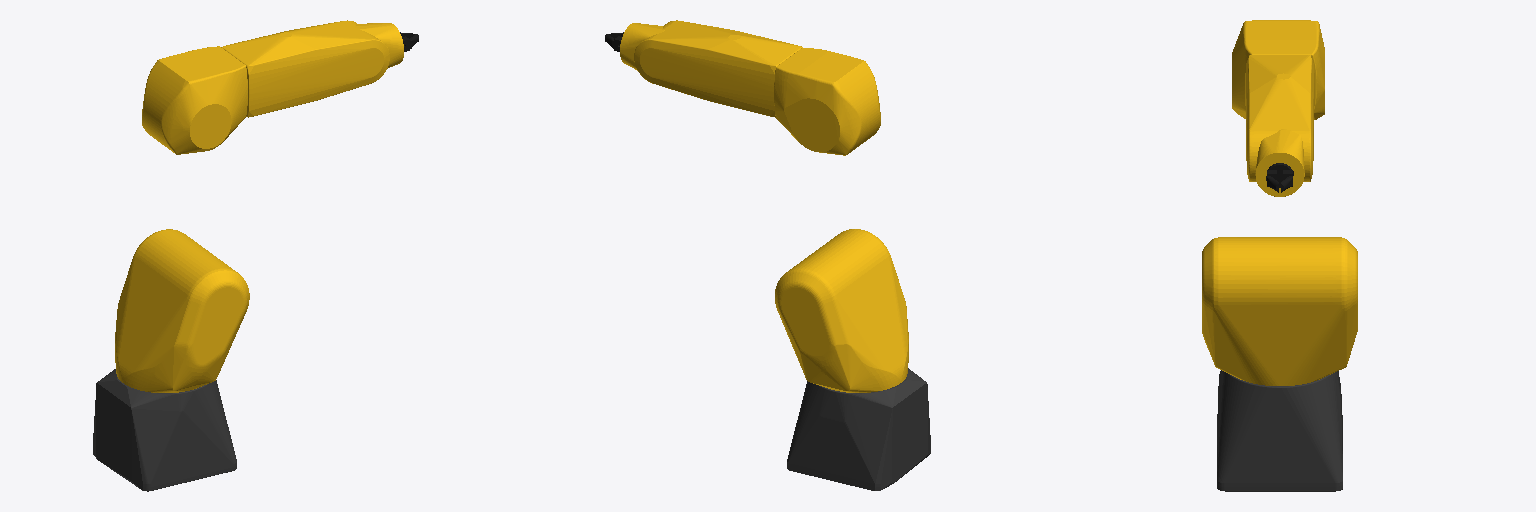
The robot description file, URDF, robot "fanuc_lrmate200id":
<?xml version="1.0" ?>
<!-- =================================================================================== -->
<!-- |    This document was autogenerated by xacro from fanuc_only.xacro               | -->
<!-- |    EDITING THIS FILE BY HAND IS NOT RECOMMENDED                                 | -->
<!-- =================================================================================== -->
<robot name="fanuc_lrmate200id" xmlns:xacro="http://ros.org/wiki/xacro">
  <link name="world"/>
  <joint name="fanuc_base_link-base" type="fixed">
    <origin rpy="0 0 0" xyz="0 0 0"/>
    <parent link="world"/>
    <child link="fanuc_base_link"/>
  </joint>
  <!-- links: main serial chain -->
  <link name="fanuc_base_link">
    <visual>
      <origin rpy="0 0 0" xyz="0 0 0"/>
      <geometry>
        <mesh filename="package://fanuc_lrmate200id_support/meshes/lrmate200id/visual/base_link.stl"/>
      </geometry>
      <material name="">
        <color rgba="0.278431372549 0.278431372549 0.278431372549 1.0"/>
      </material>
    </visual>
    <collision>
      <origin rpy="0 0 0" xyz="0 0 0"/>
      <geometry>
        <mesh filename="package://fanuc_lrmate200id_support/meshes/lrmate200id/collision/base_link.stl"/>
      </geometry>
    </collision>
    <inertial>
      <mass value="0.1"/>
      <inertia ixx="0.03" ixy="0.0" ixz="0.0" iyy="0.03" iyz="0.0" izz="0.03"/>
    </inertial>
  </link>
  <link name="fanuc_link_1">
    <visual>
      <origin rpy="0 0 0" xyz="0 0 0"/>
      <geometry>
        <mesh filename="package://fanuc_lrmate200id_support/meshes/lrmate200id/visual/link_1.stl"/>
      </geometry>
      <material name="">
        <color rgba="0.96 0.76 0.13 1.0"/>
      </material>
    </visual>
    <collision>
      <origin rpy="0 0 0" xyz="0 0 0"/>
      <geometry>
        <mesh filename="package://fanuc_lrmate200id_support/meshes/lrmate200id/collision/link_1.stl"/>
      </geometry>
    </collision>
    <inertial>
      <origin rpy="0 0 0" xyz="0 0 0"/>
      <mass value="1"/>
      <inertia ixx="0.0226667" ixy="0.0" ixz="0.0" iyy="0.0226667" iyz="0.0" izz="0.0226667"/>
    </inertial>
  </link>
  <link name="fanuc_link_2">
    <visual>
      <origin rpy="0 0 0" xyz="0 0 0"/>
      <geometry>
        <mesh filename="package://fanuc_lrmate200id_support/meshes/lrmate200id/visual/link_2.stl"/>
      </geometry>
      <material name="">
        <color rgba="0.96 0.76 0.13 1.0"/>
      </material>
    </visual>
    <collision>
      <origin rpy="0 0 0" xyz="0 0 0"/>
      <geometry>
        <mesh filename="package://fanuc_lrmate200id_support/meshes/lrmate200id/collision/link_2.stl"/>
      </geometry>
    </collision>
    <inertial>
      <origin rpy="0 0 0" xyz="0 0 0"/>
      <mass value="1"/>
      <inertia ixx="0.0226667" ixy="0.0" ixz="0.0" iyy="0.0226667" iyz="0.0" izz="0.0226667"/>
    </inertial>
  </link>
  <link name="fanuc_link_3">
    <visual>
      <origin rpy="0 0 0" xyz="0 0 0"/>
      <geometry>
        <mesh filename="package://fanuc_lrmate200id_support/meshes/lrmate200id/visual/link_3.stl"/>
      </geometry>
      <material name="">
        <color rgba="0.96 0.76 0.13 1.0"/>
      </material>
    </visual>
    <collision>
      <origin rpy="0 0 0" xyz="0 0 0"/>
      <geometry>
        <mesh filename="package://fanuc_lrmate200id_support/meshes/lrmate200id/collision/link_3.stl"/>
      </geometry>
    </collision>
    <inertial>
      <origin rpy="0 0 0" xyz="0 0 0"/>
      <mass value="1"/>
      <inertia ixx="0.0226667" ixy="0.0" ixz="0.0" iyy="0.0226667" iyz="0.0" izz="0.0226667"/>
    </inertial>
  </link>
  <link name="fanuc_link_4">
    <visual>
      <origin rpy="0 0 0" xyz="0 0 0"/>
      <geometry>
        <mesh filename="package://fanuc_lrmate200id_support/meshes/lrmate200id/visual/link_4.stl"/>
      </geometry>
      <material name="">
        <color rgba="0.96 0.76 0.13 1.0"/>
      </material>
    </visual>
    <collision>
      <origin rpy="0 0 0" xyz="0 0 0"/>
      <geometry>
        <mesh filename="package://fanuc_lrmate200id_support/meshes/lrmate200id/collision/link_4.stl"/>
      </geometry>
    </collision>
    <inertial>
      <origin rpy="0 0 0" xyz="0 0 0"/>
      <mass value="1"/>
      <inertia ixx="0.0226667" ixy="0.0" ixz="0.0" iyy="0.0226667" iyz="0.0" izz="0.0226667"/>
    </inertial>
  </link>
  <link name="fanuc_link_5">
    <visual>
      <origin rpy="0 0 0" xyz="0 0 0"/>
      <geometry>
        <mesh filename="package://fanuc_lrmate200id_support/meshes/lrmate200id/visual/link_5.stl"/>
      </geometry>
      <material name="">
        <color rgba="0.96 0.76 0.13 1.0"/>
      </material>
    </visual>
    <collision>
      <origin rpy="0 0 0" xyz="0 0 0"/>
      <geometry>
        <mesh filename="package://fanuc_lrmate200id_support/meshes/lrmate200id/collision/link_5.stl"/>
      </geometry>
    </collision>
    <inertial>
      <origin rpy="0 0 0" xyz="0 0 0"/>
      <mass value="1"/>
      <inertia ixx="0.0226667" ixy="0.0" ixz="0.0" iyy="0.0226667" iyz="0.0" izz="0.0226667"/>
    </inertial>
  </link>
  <link name="fanuc_link_6">
    <visual>
      <origin rpy="0 0 0" xyz="0 0 0"/>
      <geometry>
        <mesh filename="package://fanuc_lrmate200id_support/meshes/lrmate200id/visual/link_6.stl"/>
      </geometry>
      <material name="">
        <color rgba="0.15 0.15 0.15 1.0"/>
      </material>
    </visual>
    <collision>
      <origin rpy="0 0 0" xyz="0 0 0"/>
      <geometry>
        <mesh filename="package://fanuc_lrmate200id_support/meshes/lrmate200id/collision/link_6.stl"/>
      </geometry>
    </collision>
    <inertial>
      <origin rpy="0 0 0" xyz="0 0 0"/>
      <mass value="1"/>
      <inertia ixx="0.0226667" ixy="0.0" ixz="0.0" iyy="0.0226667" iyz="0.0" izz="0.0226667"/>
    </inertial>
  </link>
  <!--   <link name="${prefix}tool0" /> -->
  <joint name="fanuc_joint_1" type="revolute">
    <origin rpy="0 0 0" xyz="0 0 0.330"/>
    <parent link="fanuc_base_link"/>
    <child link="fanuc_link_1"/>
    <axis xyz="0 0 1"/>
    <limit effort="0" lower="-2.965" upper="2.965" velocity="7.85"/>
  </joint>
  <joint name="fanuc_joint_2" type="revolute">
    <origin rpy="0 0 0" xyz="0.050 0 0"/>
    <parent link="fanuc_link_1"/>
    <child link="fanuc_link_2"/>
    <axis xyz="0 1 0"/>
    <limit effort="0" lower="-1.745329" upper="2.530727" velocity="6.63"/>
  </joint>
  <joint name="fanuc_joint_3" type="revolute">
    <origin rpy="0 0 0" xyz="0 0 0.330"/>
    <parent link="fanuc_link_2"/>
    <child link="fanuc_link_3"/>
    <axis xyz="0 -1 0"/>
    <limit effort="0" lower="-2.450966" upper="4.886922" velocity="9.08"/>
  </joint>
  <joint name="fanuc_joint_4" type="revolute">
    <origin rpy="0 0 0" xyz="0 0 0.035"/>
    <parent link="fanuc_link_3"/>
    <child link="fanuc_link_4"/>
    <axis xyz="-1 0 0"/>
    <limit effort="0" lower="-3.315" upper="3.315" velocity="9.6"/>
  </joint>
  <joint name="fanuc_joint_5" type="revolute">
    <origin rpy="0 0 0" xyz="0.335 0 0"/>
    <parent link="fanuc_link_4"/>
    <child link="fanuc_link_5"/>
    <axis xyz="0 -1 0"/>
    <limit effort="0" lower="-2.18" upper="2.18" velocity="9.51"/>
  </joint>
  <joint name="fanuc_joint_6" type="revolute">
    <origin rpy="0 0 0" xyz="0.080 0 0"/>
    <parent link="fanuc_link_5"/>
    <child link="fanuc_link_6"/>
    <axis xyz="-1 0 0"/>
    <limit effort="0" lower="-6.285" upper="6.285" velocity="17.45"/>
  </joint>
  <gazebo reference="fanuc_base_link">
    <material>Gazebo/Grey</material>
    <turnGravityOff>true</turnGravityOff>
  </gazebo>
  <gazebo reference="fanuc_link_1">
    <material>Gazebo/Yellow</material>
    <turnGravityOff>true</turnGravityOff>
  </gazebo>
  <gazebo reference="fanuc_link_2">
    <material>Gazebo/Yellow</material>
    <turnGravityOff>true</turnGravityOff>
  </gazebo>
  <gazebo reference="fanuc_link_3">
    <material>Gazebo/Yellow</material>
    <turnGravityOff>true</turnGravityOff>
  </gazebo>
  <gazebo reference="fanuc_link_4">
    <material>Gazebo/Yellow</material>
    <turnGravityOff>true</turnGravityOff>
  </gazebo>
  <gazebo reference="fanuc_link_5">
    <material>Gazebo/Yellow</material>
    <turnGravityOff>true</turnGravityOff>
  </gazebo>
  <gazebo reference="fanuc_link_6">
    <material>Gazebo/Yellow</material>
    <turnGravityOff>true</turnGravityOff>
  </gazebo>
  <link name="fanuc_finger_1">
    <visual>
      <origin rpy="0 0 0" xyz="0 0 0"/>
      <geometry>
        <mesh filename="package://fanuc_lrmate200id_support/meshes/lrmate200id/visual/fanuc_finger_1.STL"/>
      </geometry>
      <material name="">
        <color rgba="0.15 0.15 0.15 1.0"/>
      </material>
    </visual>
    <collision>
      <origin rpy="0 0 0" xyz="0 0 0"/>
      <geometry>
        <mesh filename="package://fanuc_lrmate200id_support/meshes/lrmate200id/collision/fanuc_finger_1.STL"/>
      </geometry>
    </collision>
    <inertial>
      <origin rpy="0 0 0" xyz="0 0 0"/>
      <mass value="1"/>
      <inertia ixx="1e-3" ixy="0.0" ixz="0.0" iyy="1e-3" iyz="0.0" izz="1e-3"/>
    </inertial>
  </link>
  <link name="fanuc_finger_2">
    <visual>
      <origin rpy="0 0 0" xyz="0 0 0"/>
      <geometry>
        <mesh filename="package://fanuc_lrmate200id_support/meshes/lrmate200id/visual/fanuc_finger_2.STL"/>
      </geometry>
      <material name="">
        <color rgba="0.15 0.15 0.15 1.0"/>
      </material>
    </visual>
    <collision>
      <origin rpy="0 0 0" xyz="0 0 0"/>
      <geometry>
        <mesh filename="package://fanuc_lrmate200id_support/meshes/lrmate200id/collision/fanuc_finger_2.STL"/>
      </geometry>
    </collision>
    <inertial>
      <origin rpy="0 0 0" xyz="0 0 0"/>
      <mass value="1"/>
      <inertia ixx="1e-3" ixy="0.0" ixz="0.0" iyy="1e-3" iyz="0.0" izz="1e-3"/>
    </inertial>
  </link>
  <joint name="fanuc_prism1" type="prismatic">
    <origin rpy="-3.14159  0       1.5708" xyz="0.0 0.02    0.01099"/>
    <parent link="fanuc_link_6"/>
    <child link="fanuc_finger_1"/>
    <axis xyz="-1 0 0 "/>
    <limit effort="1000" lower="-0.008" upper="0.01" velocity="1000"/>
  </joint>
  <joint name="fanuc_prism2" type="prismatic">
    <origin rpy="-3.14159  0      -1.5708" xyz="0.0 0 -0.01099"/>
    <parent link="fanuc_link_6"/>
    <child link="fanuc_finger_2"/>
    <axis xyz="-1 0 0"/>
    <limit effort="1000" lower="-0.008" upper="0.0" velocity="1000"/>
  </joint>
  <transmission name="trans_fanuc_prism1">
    <type>transmission_interface/SimpleTransmission</type>
    <joint name="fanuc_prism1">
      <hardwareInterface>hardware_interface/EffortJointInterface</hardwareInterface>
    </joint>
    <actuator name="fanuc_prism1_motor">
      <hardwareInterface>hardware_interface/EffortJointInterface</hardwareInterface>
      <mechanicalReduction>1</mechanicalReduction>
    </actuator>
  </transmission>
  <transmission name="trans_fanuc_prism2">
    <type>transmission_interface/SimpleTransmission</type>
    <joint name="fanuc_prism2">
      <hardwareInterface>hardware_interface/EffortJointInterface</hardwareInterface>
    </joint>
    <actuator name="fanuc_prism2_motor">
      <hardwareInterface>hardware_interface/EffortJointInterface</hardwareInterface>
      <mechanicalReduction>1</mechanicalReduction>
    </actuator>
  </transmission>
  <gazebo reference="fanuc_finger_1">
    <material>Gazebo/White</material>
    <turnGravityOff>true</turnGravityOff>
  </gazebo>
  <gazebo reference="fanuc_finger_2">
    <material>Gazebo/White</material>
    <turnGravityOff>true</turnGravityOff>
  </gazebo>
  <transmission name="trans_fanuc_joint_1">
    <type>transmission_interface/SimpleTransmission</type>
    <joint name="fanuc_joint_1">
      <hardwareInterface>hardware_interface/EffortJointInterface</hardwareInterface>
    </joint>
    <actuator name="fanuc_joint_1_motor">
      <mechanicalReduction>1</mechanicalReduction>
    </actuator>
  </transmission>
  <transmission name="trans_fanuc_joint_2">
    <type>transmission_interface/SimpleTransmission</type>
    <joint name="fanuc_joint_2">
      <hardwareInterface>hardware_interface/EffortJointInterface</hardwareInterface>
    </joint>
    <actuator name="fanuc_joint_2_motor">
      <mechanicalReduction>1</mechanicalReduction>
    </actuator>
  </transmission>
  <transmission name="trans_fanuc_joint_3">
    <type>transmission_interface/SimpleTransmission</type>
    <joint name="fanuc_joint_3">
      <hardwareInterface>hardware_interface/EffortJointInterface</hardwareInterface>
    </joint>
    <actuator name="fanuc_joint_3_motor">
      <mechanicalReduction>1</mechanicalReduction>
    </actuator>
  </transmission>
  <transmission name="trans_fanuc_joint_4">
    <type>transmission_interface/SimpleTransmission</type>
    <joint name="fanuc_joint_4">
      <hardwareInterface>hardware_interface/EffortJointInterface</hardwareInterface>
    </joint>
    <actuator name="fanuc_joint_4_motor">
      <mechanicalReduction>1</mechanicalReduction>
    </actuator>
  </transmission>
  <transmission name="trans_fanuc_joint_5">
    <type>transmission_interface/SimpleTransmission</type>
    <joint name="fanuc_joint_5">
      <hardwareInterface>hardware_interface/EffortJointInterface</hardwareInterface>
    </joint>
    <actuator name="fanuc_joint_5_motor">
      <mechanicalReduction>1</mechanicalReduction>
    </actuator>
  </transmission>
  <transmission name="trans_fanuc_joint_6">
    <type>transmission_interface/SimpleTransmission</type>
    <joint name="fanuc_joint_6">
      <hardwareInterface>hardware_interface/EffortJointInterface</hardwareInterface>
    </joint>
    <actuator name="fanuc_joint_6_motor">
      <mechanicalReduction>1</mechanicalReduction>
    </actuator>
  </transmission>
  <transmission name="trans_fanuc_prism1">
    <type>transmission_interface/SimpleTransmission</type>
    <joint name="fanuc_prism1">
      <hardwareInterface>hardware_interface/EffortJointInterface</hardwareInterface>
    </joint>
    <actuator name="fanuc_prism1_motor">
      <hardwareInterface>hardware_interface/EffortJointInterface</hardwareInterface>
      <mechanicalReduction>1</mechanicalReduction>
    </actuator>
  </transmission>
  <transmission name="trans_fanuc_prism2">
    <type>transmission_interface/SimpleTransmission</type>
    <joint name="fanuc_prism2">
      <hardwareInterface>hardware_interface/EffortJointInterface</hardwareInterface>
    </joint>
    <actuator name="fanuc_prism2_motor">
      <hardwareInterface>hardware_interface/EffortJointInterface</hardwareInterface>
      <mechanicalReduction>1</mechanicalReduction>
    </actuator>
  </transmission>
  <gazebo>
    <static>false</static>
    <plugin filename="libgazebo_ros_control.so" name="gazebo_ros_control">
      <robotNamespace>/fanuc_lrmate200id</robotNamespace>
      <legacynodens>true</legacynodens>
    </plugin>
  </gazebo>
  <gazebo>
    <plugin filename="libgzparallelgripperplugin.so" name="ParallelGripperPlugin">
      <robotNamespace>/fanuc_lrmate200id</robotNamespace>
      <grip_force_close>5</grip_force_close>
      <joint1>fanuc_lrmate200id::fanuc_prism1</joint1>
      <joint2>fanuc_lrmate200id::fanuc_prism2</joint2>
      <grip_kp>10000</grip_kp>
      <control_topic>/fanuc_lrmate200id/control</control_topic>
      <debug>1</debug>
      <fulldebug>0</fulldebug>
      <collisions>1</collisions>
      <synchronous> 0  </synchronous>
    </plugin>
  </gazebo>
</robot>

--- Render facts (derived) ---
The picture shows the robot from 3 angles, left to right: view 1: azimuth 30°, elevation 25°; view 2: azimuth 150°, elevation 25°; view 3: azimuth 270°, elevation 25°; orthographic projection.
Robot: fanuc_lrmate200id — 10 links, 9 joints (6 revolute, 2 prismatic, 1 fixed); root link world; default pose: every joint at zero.
Links seen in each view (by area): view 1: fanuc_link_1, fanuc_base_link, fanuc_link_4, fanuc_link_3, fanuc_link_5; view 2: fanuc_link_1, fanuc_base_link, fanuc_link_4, fanuc_link_3, fanuc_link_5; view 3: fanuc_link_1, fanuc_base_link, fanuc_link_4, fanuc_link_3, fanuc_link_5.
Link boxes in pixels (x1,y1,x2,y2): fanuc_link_1: [115, 229, 249, 392]; fanuc_base_link: [93, 369, 236, 491]; fanuc_link_4: [221, 20, 389, 117]; fanuc_link_3: [142, 46, 247, 154]; fanuc_link_5: [355, 23, 403, 68]; fanuc_link_1: [775, 229, 908, 392]; fanuc_base_link: [787, 368, 930, 490]; fanuc_link_4: [634, 20, 802, 117]; fanuc_link_3: [774, 48, 880, 155]; fanuc_link_5: [620, 23, 664, 70]; fanuc_link_1: [1202, 237, 1357, 385]; fanuc_base_link: [1217, 370, 1342, 491]; fanuc_link_4: [1245, 55, 1314, 181]; fanuc_link_3: [1232, 20, 1324, 119]; fanuc_link_5: [1255, 129, 1304, 196].
Bounding box of the posed robot: 0.6099 × 0.235 × 0.7589 m (x, y, z).
Meshes: 9 distinct files referenced, 8 mesh visuals loaded (8 binary STL); not drawn: 1 (reference not matched to a file when rendering).
